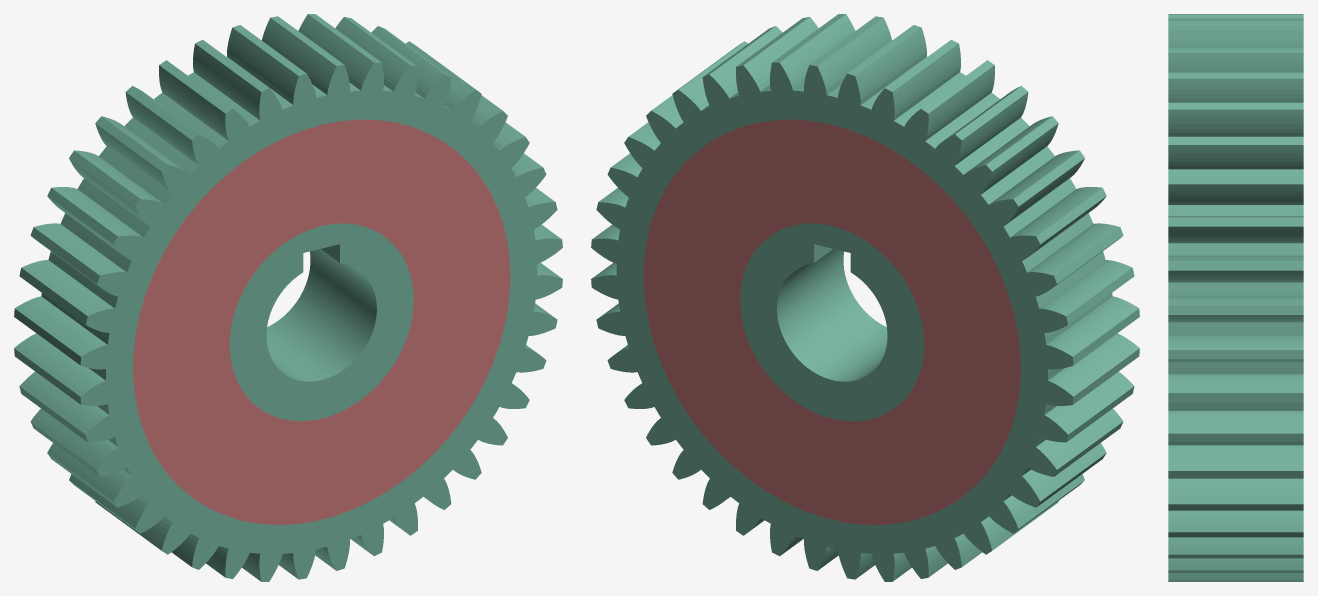
File: step_15.glb
The picture shows the model from 3 angles, left to right: view 1: azimuth 30°, elevation 25°; view 2: azimuth 150°, elevation 25°; view 3: azimuth 270°, elevation 25°; orthographic projection.
Visible parts, largest first — view 1: part__gear wheel, removed__gear wheel; view 2: part__gear wheel, removed__gear wheel; view 3: part__gear wheel.
Part boxes in pixels (left/top/right/bottom): part__gear wheel: left=14, top=14, right=562, bottom=581; removed__gear wheel: left=133, top=119, right=510, bottom=524; part__gear wheel: left=591, top=14, right=1139, bottom=581; removed__gear wheel: left=643, top=119, right=1020, bottom=524; part__gear wheel: left=1168, top=14, right=1303, bottom=581.
Bounding box in the file's own units: 105 × 105 × 25.
